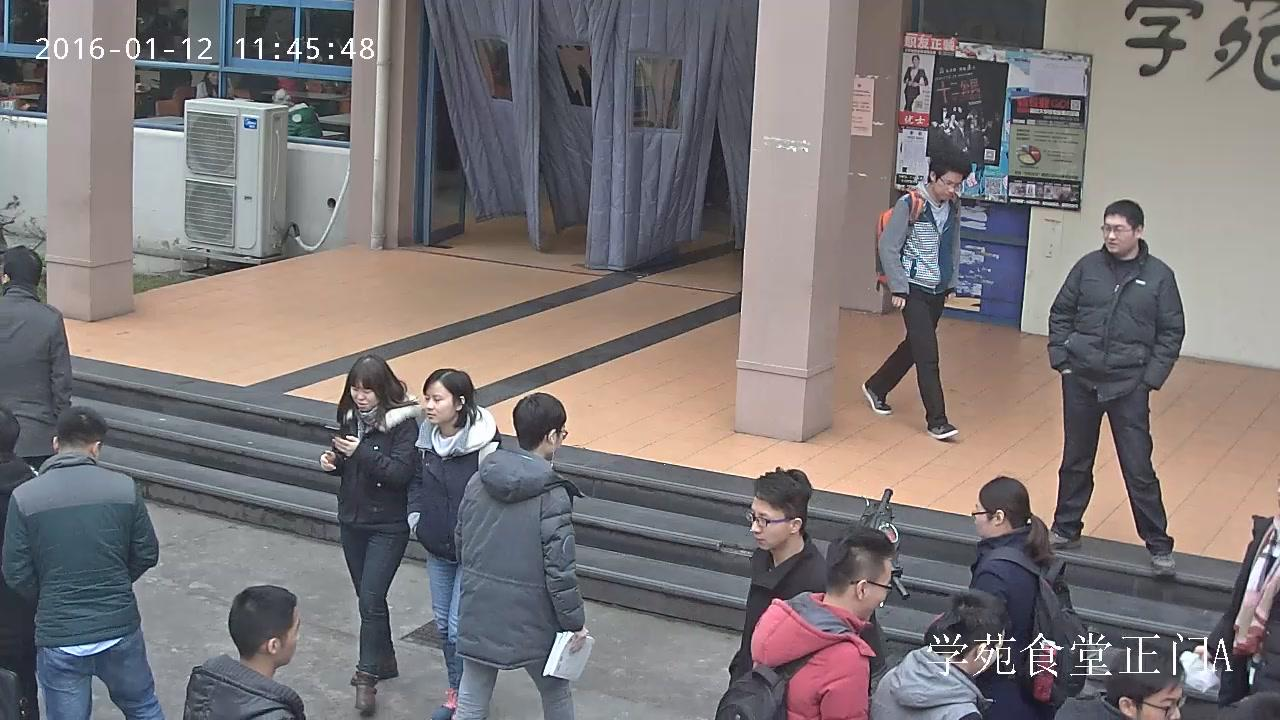person: (1046, 199, 1186, 575), (0, 405, 164, 720), (448, 391, 598, 720), (727, 464, 888, 719), (317, 354, 429, 713), (715, 524, 895, 720), (404, 367, 502, 720), (860, 146, 972, 441), (969, 475, 1088, 720), (1180, 473, 1280, 710), (866, 587, 1013, 720), (0, 245, 74, 477), (183, 584, 305, 720), (0, 407, 43, 720), (271, 87, 323, 140), (195, 61, 234, 102), (902, 54, 929, 112)
